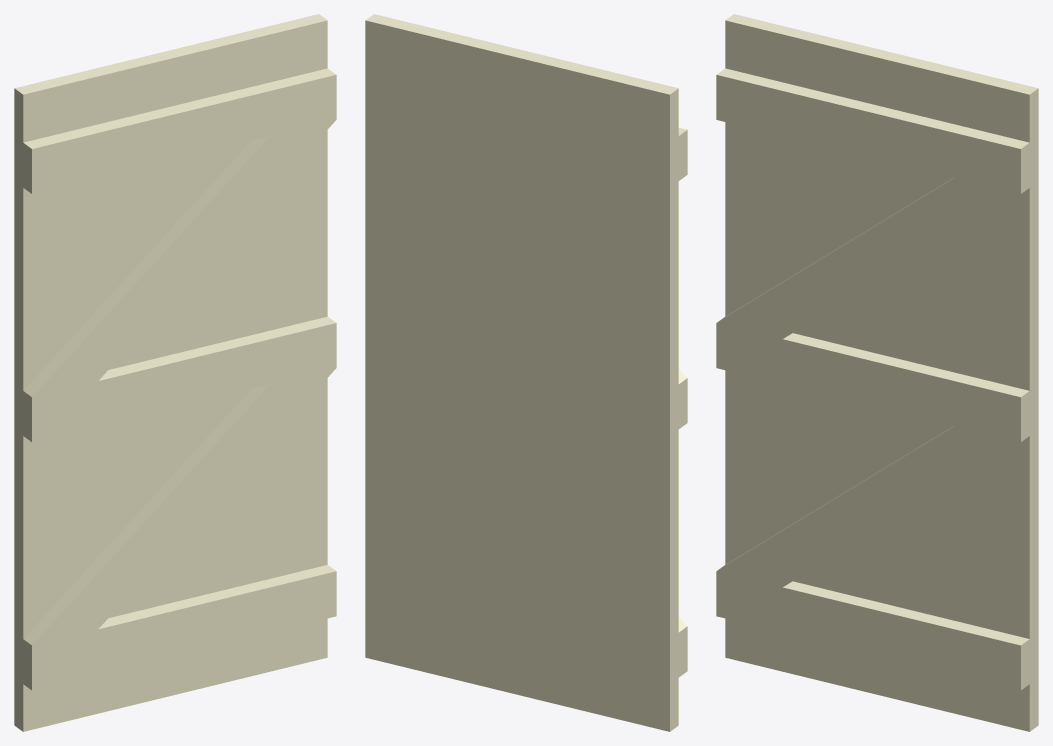
The model's file is Door.glb.
3 views of the same model, side by side, from view 1: azimuth 30°, elevation 25°; view 2: azimuth 150°, elevation 25°; view 3: azimuth 330°, elevation 25° (orthographic).
Visible parts, largest first — view 1: Door; view 2: Door; view 3: Door.
Boxes of the visible parts, box(x1,y1,x2,y2) form: Door: box(14, 14, 336, 731); Door: box(365, 14, 687, 731); Door: box(716, 14, 1038, 731).
Size of the model in its own units: 1 by 2 by 0.1.
